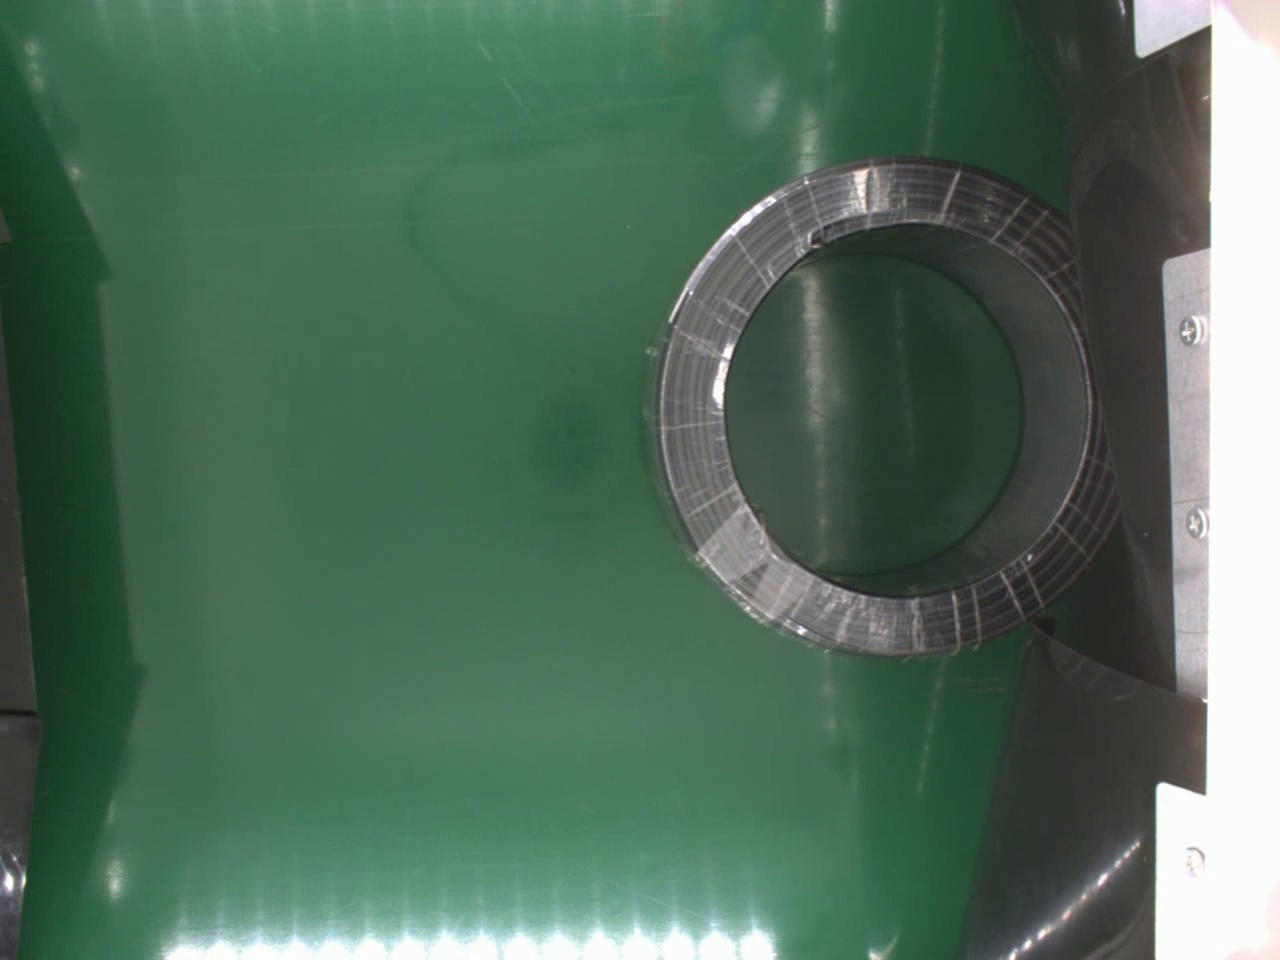black: (632, 151, 1120, 672)
